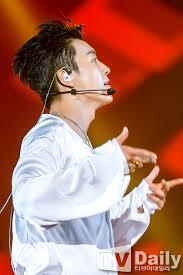earphone: (60, 72, 77, 85)
